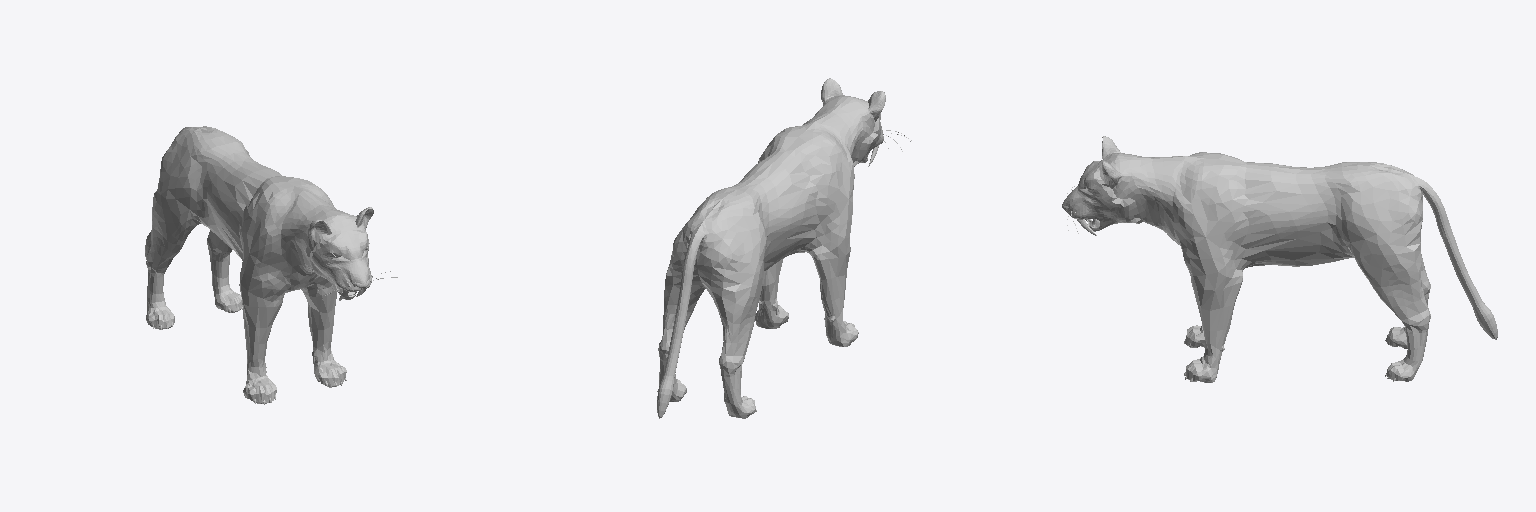
The model's file is SABTOOTH.OBJ.
The picture shows the model from 3 angles: view 1: azimuth 30°, elevation 25°; view 2: azimuth 150°, elevation 25°; view 3: azimuth 270°, elevation 25°; orthographic projection.
Parts seen in each view (by area): view 1: stth_body; view 2: stth_body; view 3: stth_body.
Part boxes in pixels (bbox=[...]): stth_body: bbox=[145, 126, 373, 404]; stth_body: bbox=[657, 78, 885, 418]; stth_body: bbox=[1062, 136, 1497, 382].
Bounding box in the file's own units: 0.7519 × 1.56 × 2.89.